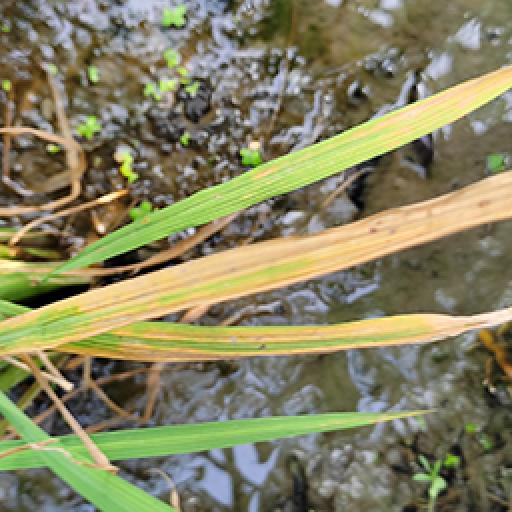Sheath Blight: (0, 164, 512, 360), (86, 310, 512, 374), (244, 60, 512, 142)
